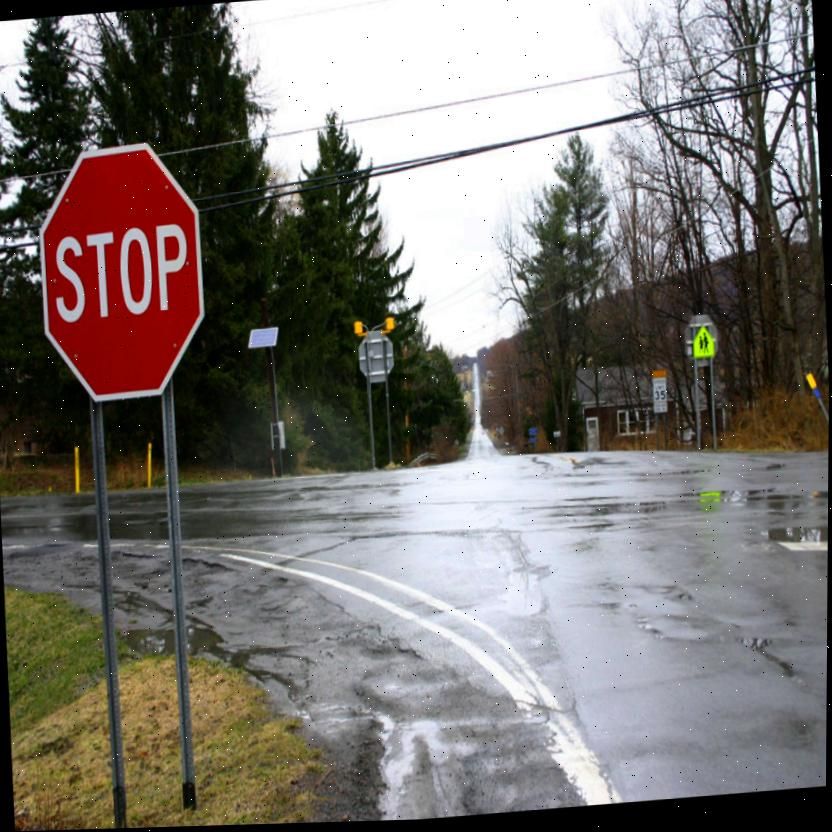Pole: (86, 408, 133, 830), (156, 401, 202, 807), (366, 384, 377, 476), (709, 363, 719, 455), (694, 364, 703, 457), (385, 382, 394, 471)
Sign: (38, 143, 209, 406), (357, 332, 398, 389)
